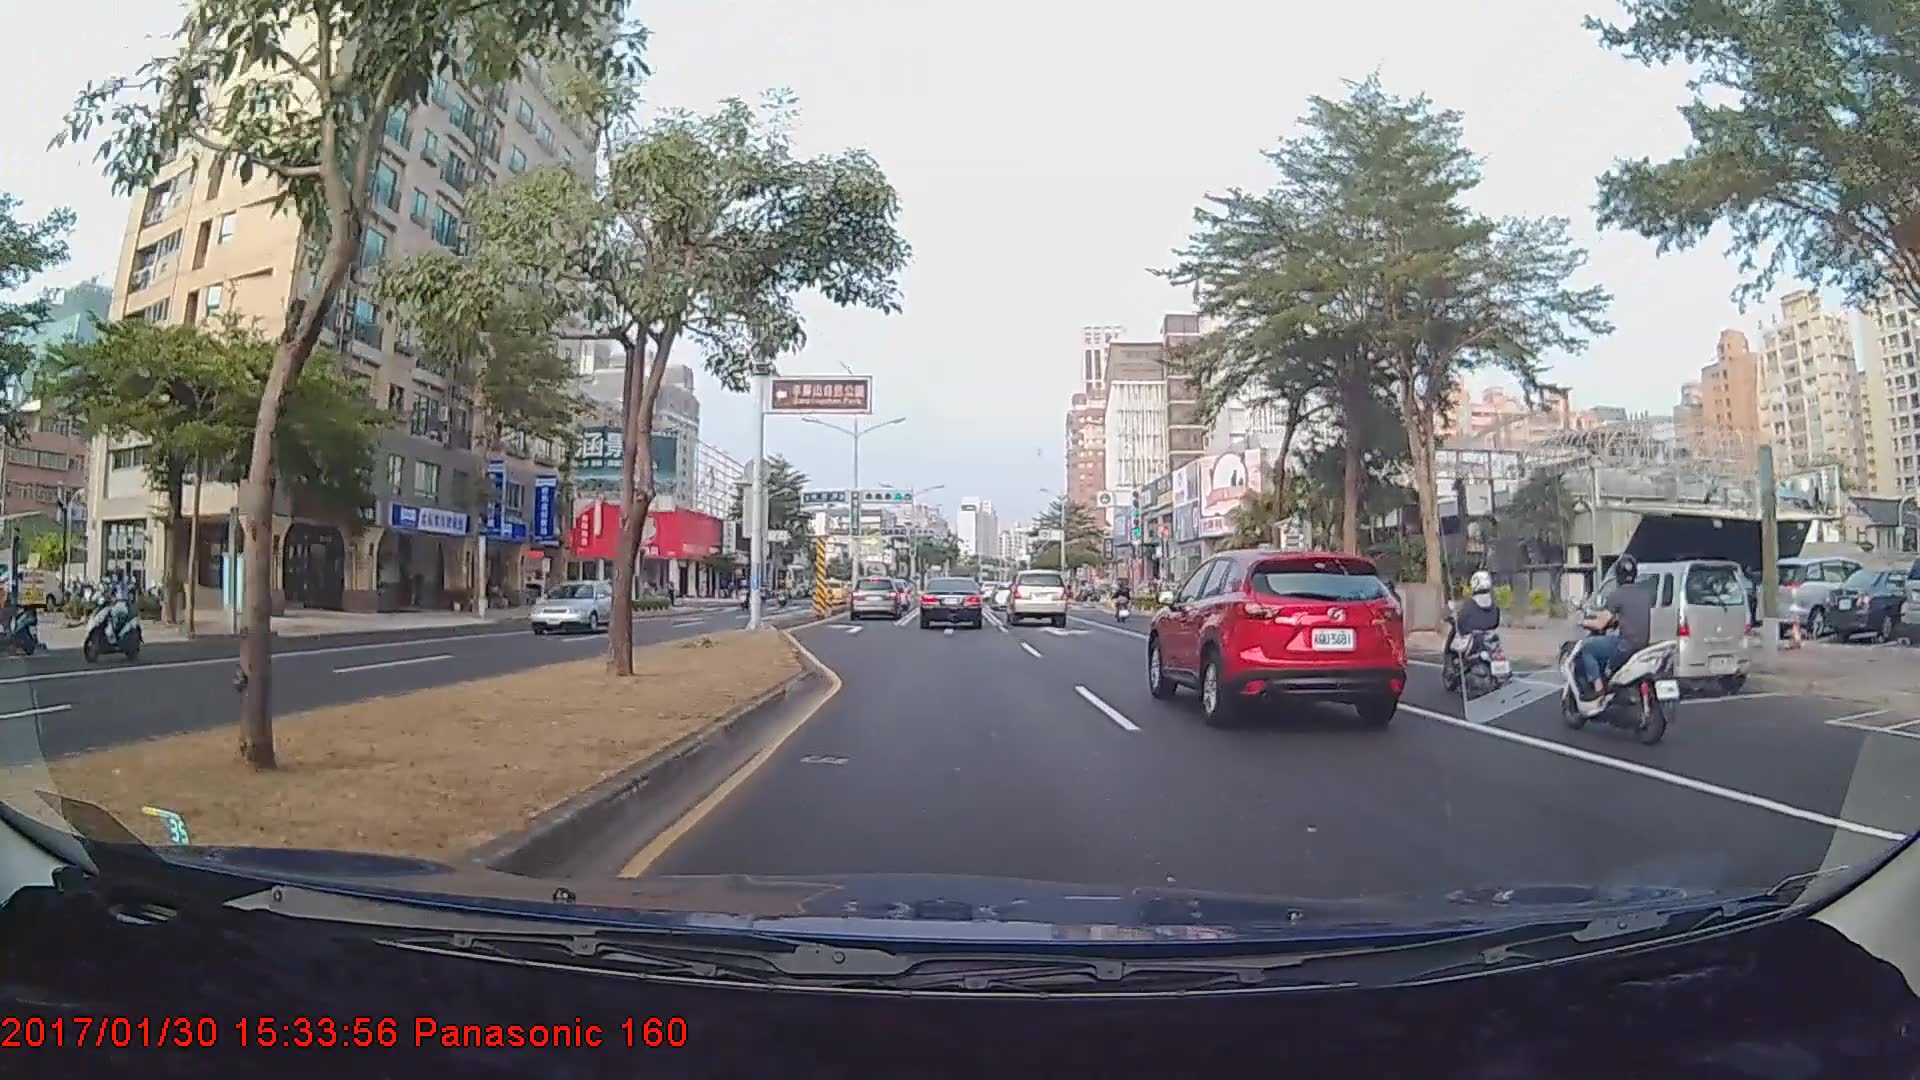rider: (1548, 554, 1682, 742), (1431, 572, 1528, 714), (81, 565, 147, 667), (1113, 585, 1137, 628)
vehicle: (1149, 542, 1410, 723), (1558, 560, 1752, 699), (1755, 558, 1889, 639), (526, 579, 620, 636), (1005, 568, 1069, 626), (919, 575, 984, 630), (847, 574, 908, 621)
